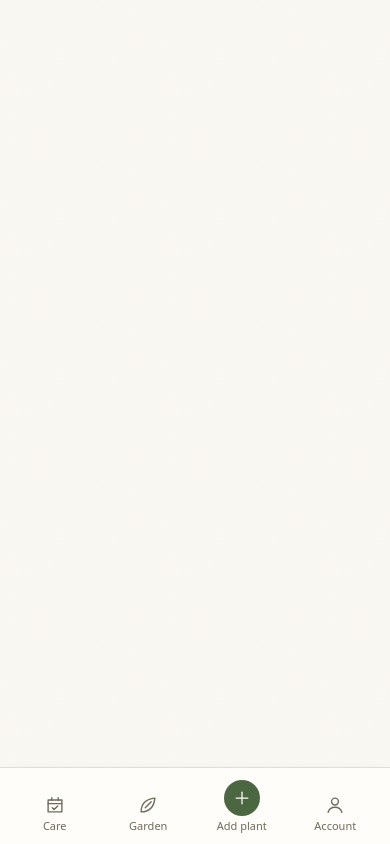
Test: BottomBar › keeps settings and logout behind the account tab
The width and height of the screenshot is (390, 844).
Expected: the text "Logout" is not shown
Click the button "Account" at [335, 814], box x1=288 y1=788 x2=382 y2=840
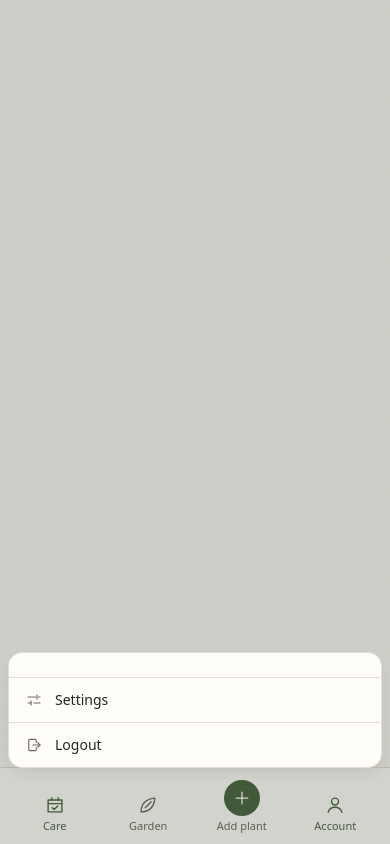
Result: the text "Settings" is shown at x1=25 y1=690 x2=108 y2=709
Result: the text "Logout" is shown at x1=9 y1=722 x2=381 y2=767
